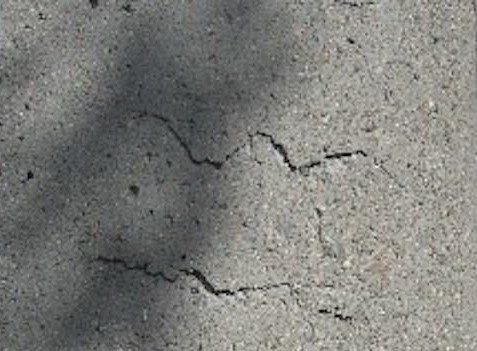Crack: (133, 110, 368, 172), (96, 254, 291, 297)
